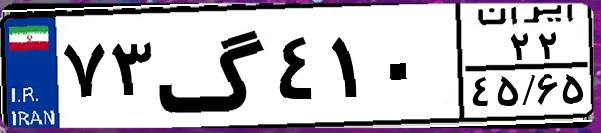0: (385, 28, 445, 110)
1: (330, 28, 385, 110)
2: (537, 27, 568, 80), (508, 27, 537, 80)
3: (110, 28, 156, 98)
4: (270, 28, 330, 110), (470, 70, 495, 125)
5: (560, 70, 590, 125), (495, 70, 520, 125)
6: (535, 70, 560, 125)
7: (57, 26, 110, 100)
گ: (156, 12, 270, 120)
